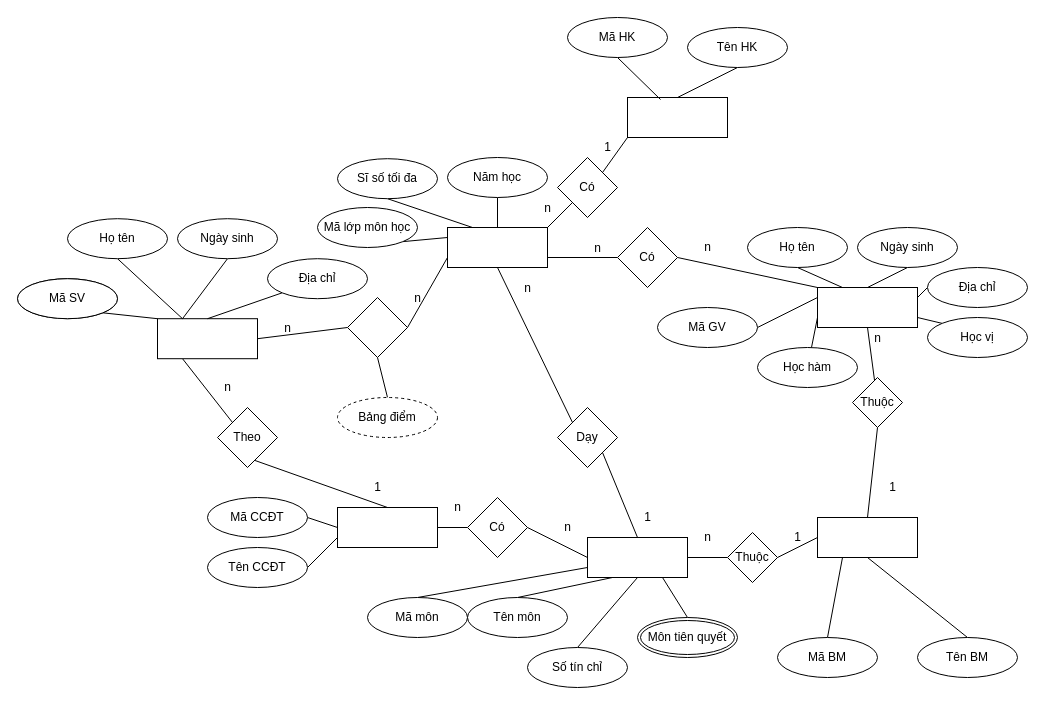
Image size: 1045x705. Some labels were removed from this diagram. Here are the shapes that lost their labels. From the top down, the box of each, then its label:
(626, 96, 728, 138): Học kỳ
(446, 226, 548, 268): Lớp môn học
(346, 296, 408, 358): Tham gia
(816, 286, 918, 328): Giáo viên
(156, 318, 258, 359): Sinh viên
(336, 506, 438, 548): Chương trình đào tạo
(816, 516, 918, 558): Bộ môn
(586, 536, 688, 578): Môn học
